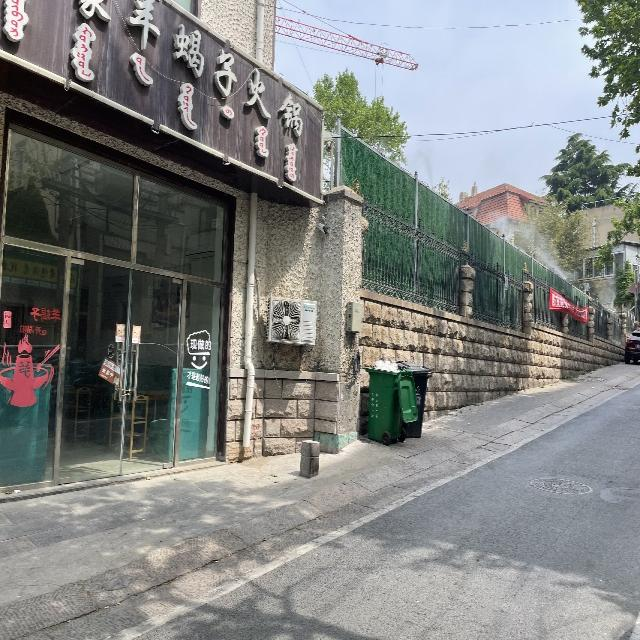garbage_bin: (402, 363, 432, 438)
overflow: (364, 359, 416, 440)
